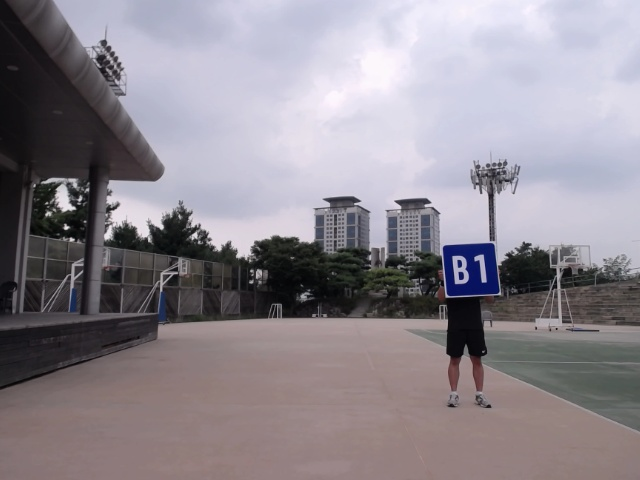delivery_b1: (442, 242, 501, 297)
